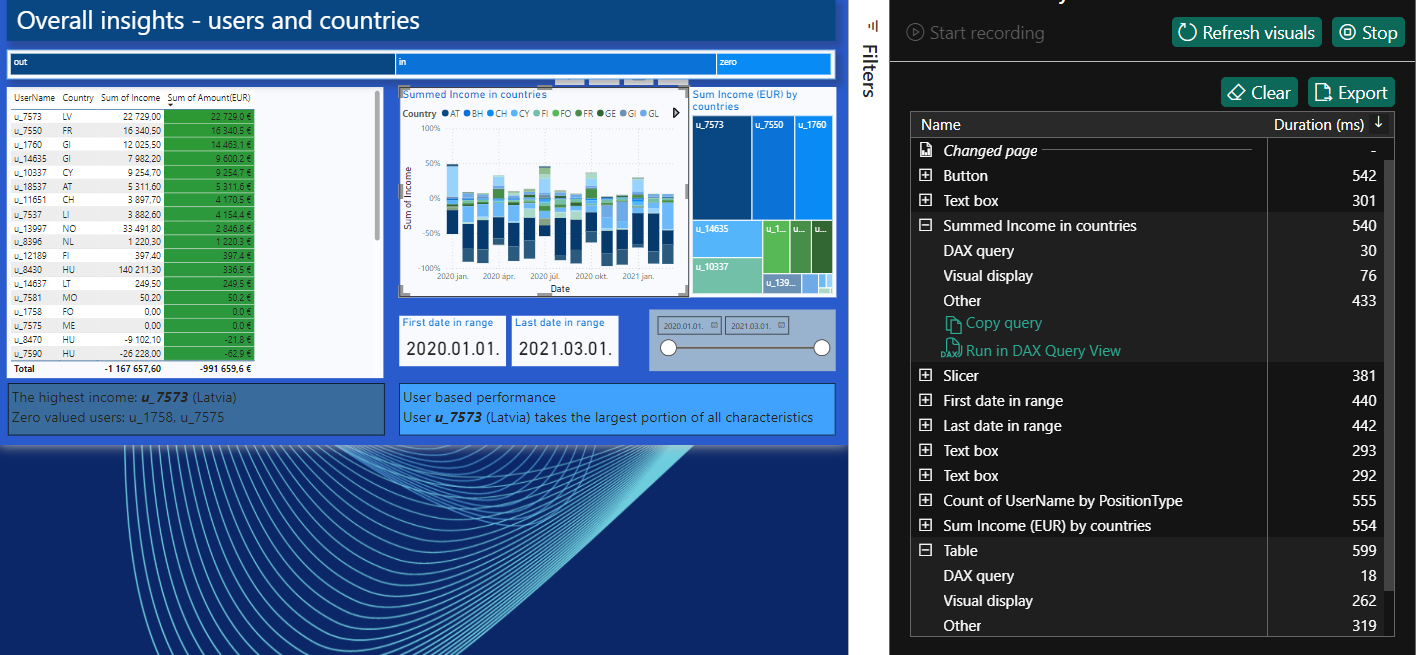

This screenshot's page, from the dashboard's own definition file:
{"tool":"powerbi","page":{"name":"Ins_1","canvas":[1280,720],"ordinal":1},"visuals":[{"type":"tableEx","fields":{"Values":["DATA.UserName","DATA.Country","Sum(DATA.Income)","Sum(DATA.Amount(EUR))"]},"box":[13.8,180,567.5,438.3],"z":0},{"type":"actionButton","box":[0,0,100,40],"z":1000},{"type":"slicer","fields":{"Values":["DATA.CorrEndDate"]},"box":[981.4,516.7,280.6,93.2],"z":2000},{"type":"hundredPercentStackedColumnChart","title":"Summed Income in countries","fields":{"Category":["DATA.CorrEndDate.Variation.Date Hierarchy.Year"],"Series":["DATA.Country"],"Y":["Sum(DATA.Income)"]},"box":[604.5,180,436.2,316.6],"z":3000},{"type":"treemap","fields":{"Group":["DATA.IncomeType"],"Values":["CountNonNull(DATA.UserName)"]},"box":[14,124,1247.8,45],"z":4000},{"type":"textbox","box":[13.8,49.8,1248.2,62.5],"z":5000},{"type":"textbox","box":[14.3,627.1,567.1,78.6],"z":7000},{"type":"textbox","box":[604.3,627.1,657.1,78.6],"z":8000},{"type":"card","title":"First date in range","fields":{"Values":["Calculations.FirstDate_msr"]},"box":[604.5,525.1,160.9,76.2],"z":9000},{"type":"card","title":"Last date in range","fields":{"Values":["Calculations.LastDate_msr"]},"box":[772.9,525.1,160.9,76.2],"z":10000},{"type":"treemap","title":"Sum Income (EUR) by countries","fields":{"Values":["Sum(DATA.Amount(EUR))"],"Group":["DATA.UserName"]},"box":[1040.7,180,221.3,316.6],"z":11000}]}

Visuals, with their boxes on the page's 1280x720 design canvas (x1, y1, x2, y2). These are canvas units, not pixel positions in the 1416x655 screenshot, which may show the page scaled, cropped or inside an application window:
tableEx - DATA.UserName x DATA.Country: Rect(14, 180, 581, 618)
actionButton: Rect(0, 0, 100, 40)
slicer - DATA.CorrEndDate: Rect(981, 517, 1262, 610)
"Summed Income in countries" hundredPercentStackedColumnChart: Rect(604, 180, 1041, 497)
treemap - DATA.IncomeType x CountNonNull(DATA.UserName): Rect(14, 124, 1262, 169)
textbox: Rect(14, 50, 1262, 112)
textbox: Rect(14, 627, 581, 706)
textbox: Rect(604, 627, 1261, 706)
"First date in range" card: Rect(604, 525, 765, 601)
"Last date in range" card: Rect(773, 525, 934, 601)
"Sum Income (EUR) by countries" treemap: Rect(1041, 180, 1262, 497)
